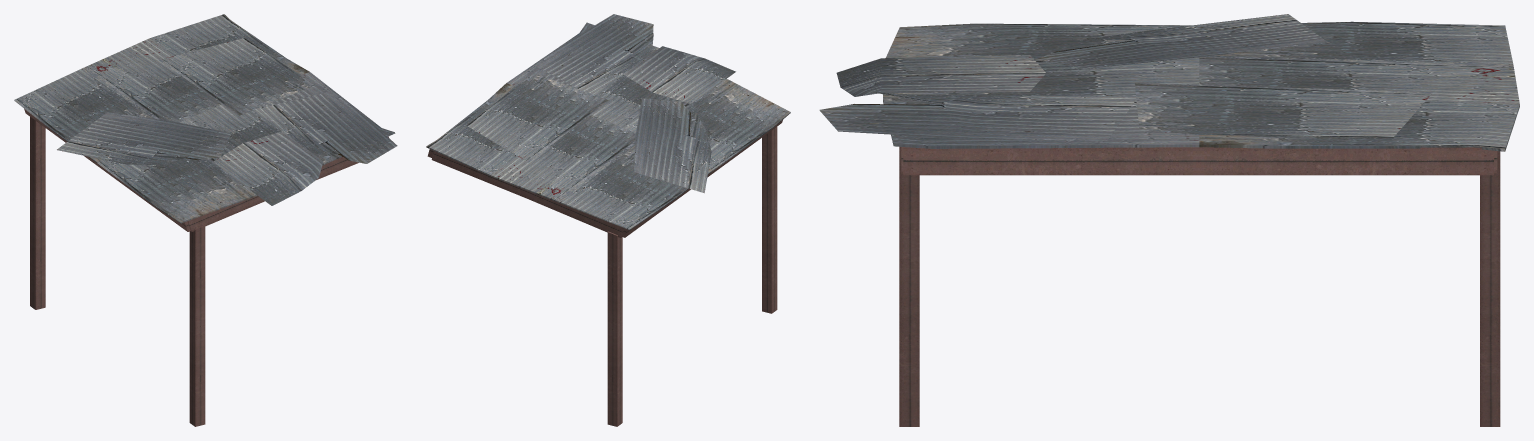
Rendered from Prop_Pz01.glb.
3 views of the same model, side by side, from view 1: azimuth 30°, elevation 25°; view 2: azimuth 150°, elevation 25°; view 3: azimuth 270°, elevation 25° (orthographic). The views are drawn at different scales.
Visible parts, largest first — view 1: xiutz_pz_01; view 2: xiutz_pz_01; view 3: xiutz_pz_01.
Boxes of the visible parts, box(x1,y1,x2,y2) form: xiutz_pz_01: box(14, 14, 397, 426); xiutz_pz_01: box(426, 14, 790, 426); xiutz_pz_01: box(819, 14, 1519, 426).
Bounding box in the file's own units: 5.39 × 5.54 × 7.8.
Materials: 1 (1 with a texture image).
